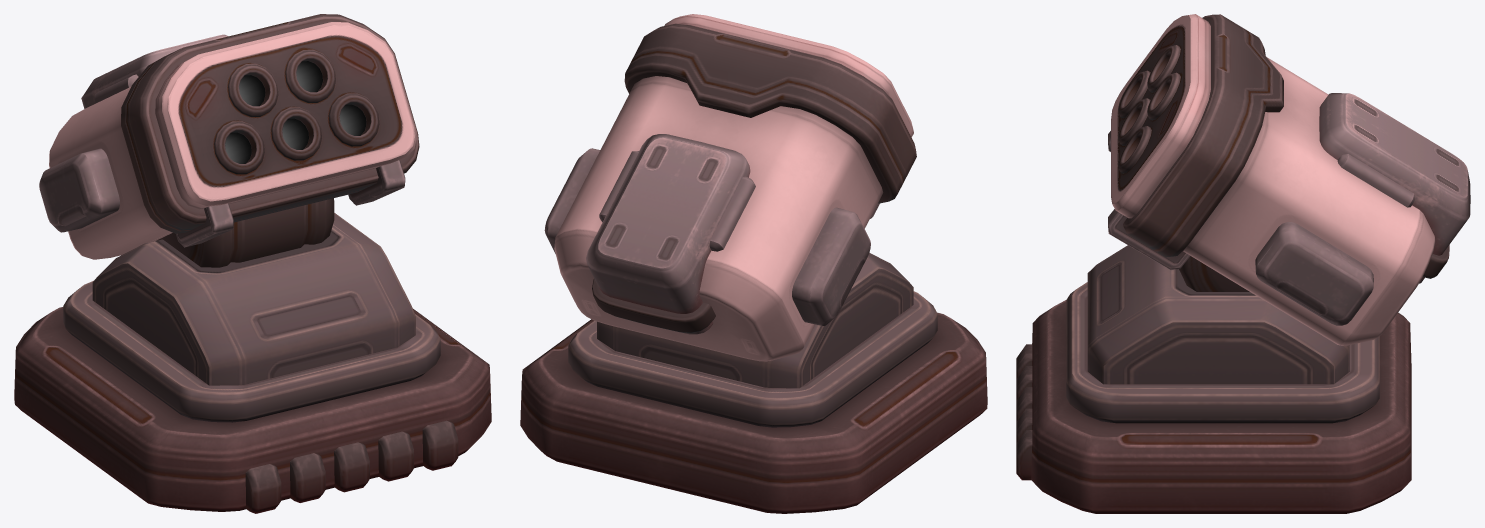
Rendered from Launcher_turret.gltf.
3 renders of one model, left to right at view 1: azimuth 30°, elevation 25°; view 2: azimuth 150°, elevation 25°; view 3: azimuth 270°, elevation 25°, orthographic. The views are drawn at different scales.
Parts seen in each view (by area): view 1: lvl1_launcher_top, lvl1_launcher_mid, lvl1_launcher_bot; view 2: lvl1_launcher_top, lvl1_launcher_bot, lvl1_launcher_mid; view 3: lvl1_launcher_top, lvl1_launcher_bot, lvl1_launcher_mid.
Boxes of the visible parts, box(x1,y1,x2,y2) form: lvl1_launcher_top: box(39, 14, 419, 259); lvl1_launcher_mid: box(63, 198, 440, 422); lvl1_launcher_bot: box(14, 307, 491, 513); lvl1_launcher_top: box(544, 14, 916, 361); lvl1_launcher_bot: box(520, 312, 987, 513); lvl1_launcher_mid: box(568, 253, 937, 427); lvl1_launcher_top: box(1108, 14, 1470, 345); lvl1_launcher_bot: box(1016, 300, 1411, 513); lvl1_launcher_mid: box(1066, 245, 1379, 423).
Bounding box in the file's own units: 1.97 × 2.1 × 2.26.
Materials: 1 (1 with a texture image).
